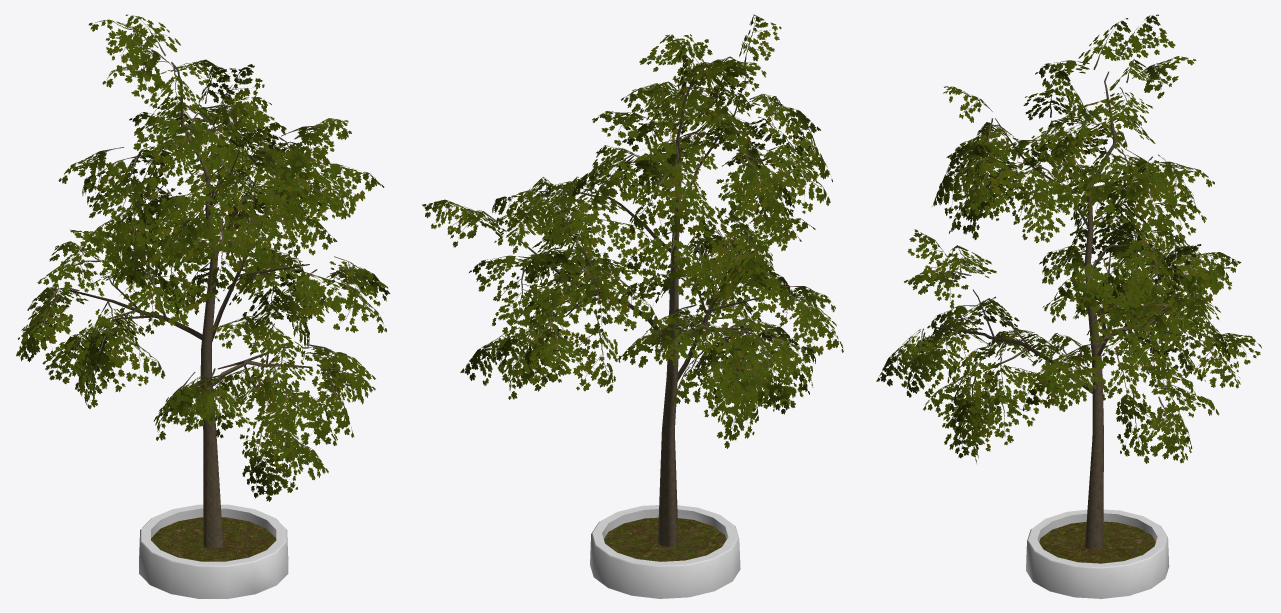
Rendered from nc_tree_09.fbx.
3 renders of one model, left to right at view 1: azimuth 30°, elevation 25°; view 2: azimuth 150°, elevation 25°; view 3: azimuth 270°, elevation 25°, orthographic. The views are drawn at different scales.
Parts seen in each view (by area): view 1: nc_tree_09_LOD0; view 2: nc_tree_09_LOD0; view 3: nc_tree_09_LOD0.
Part boxes in pixels (x1,y1,x2,y2): nc_tree_09_LOD0: (16, 14, 390, 598); nc_tree_09_LOD0: (422, 14, 843, 598); nc_tree_09_LOD0: (876, 14, 1261, 598).
Size of what is drawn, in the model's own units: 2.78 by 3.96 by 2.72.
